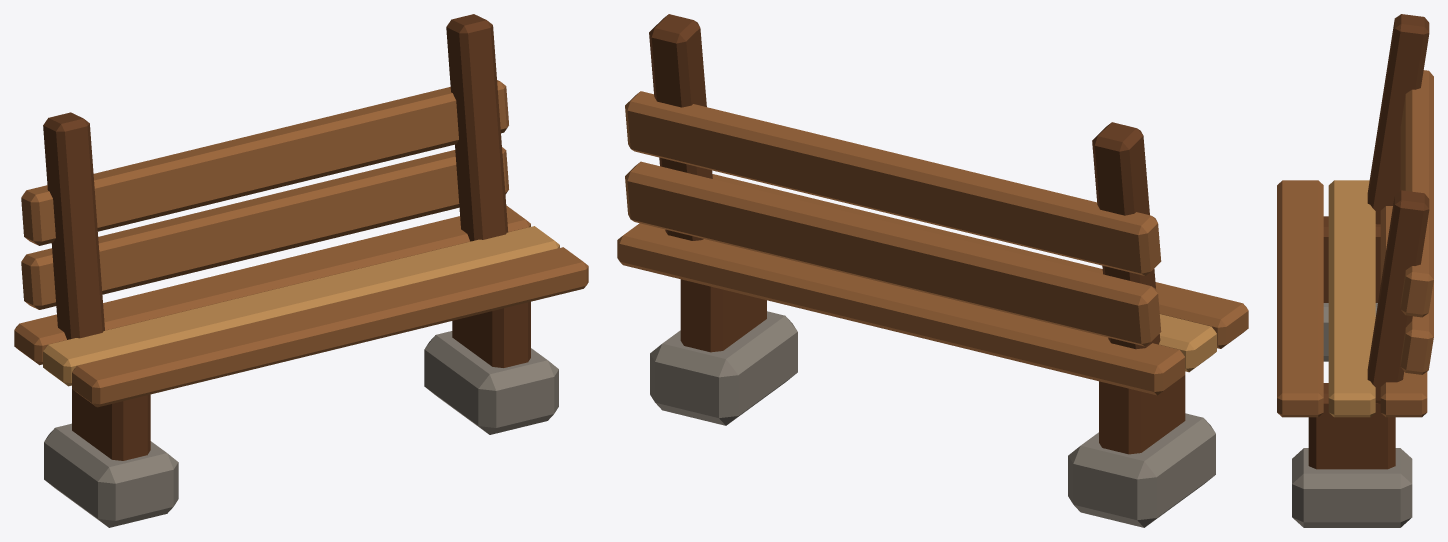
3 views of the same model, side by side, from view 1: azimuth 30°, elevation 25°; view 2: azimuth 150°, elevation 25°; view 3: azimuth 270°, elevation 25° (orthographic). The views are drawn at different scales.
Parts seen in each view (by area): view 1: WK_TimberBench_LOD2_Compact; view 2: WK_TimberBench_LOD2_Compact; view 3: WK_TimberBench_LOD2_Compact.
Part boxes in pixels (<box>): WK_TimberBench_LOD2_Compact: <box>14,14,588,527</box>; WK_TimberBench_LOD2_Compact: <box>617,14,1248,527</box>; WK_TimberBench_LOD2_Compact: <box>1277,14,1433,527</box>.
Size of the model in its own units: 3.08 by 2.15 by 0.9396.
